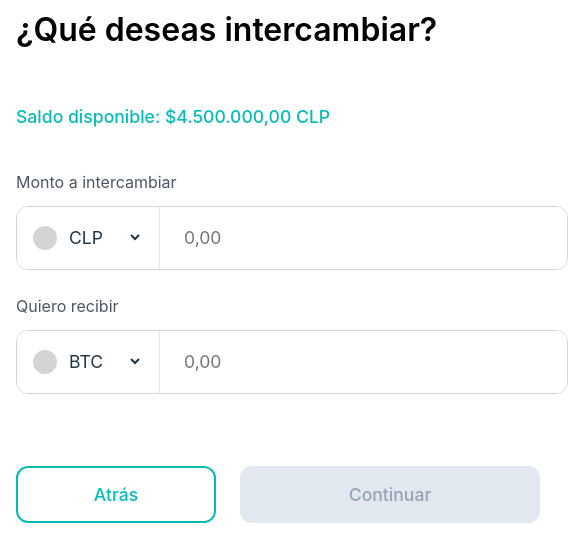
Test: ExchangePage › calculates the conversion amount for CLP to BTC
Type "1000000" into the number field with placeholder "0,00" below "Monto a intercambiar" at (364, 238), box [160,207,567,269]
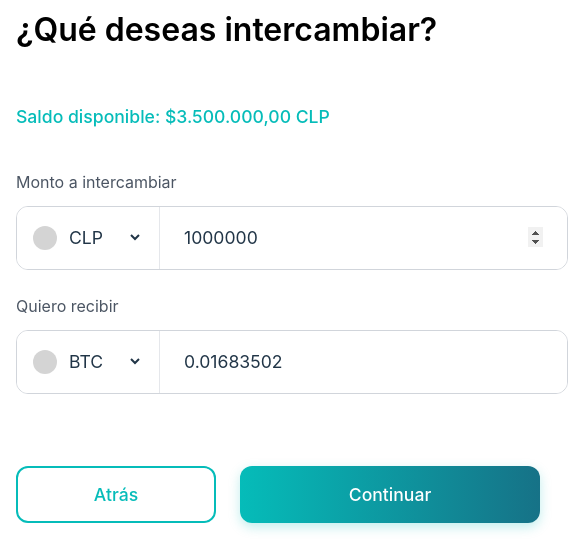
Now the number field with placeholder "0,00" below "Quiero recibir" holds "0.01683502", box [160,331,567,393]
